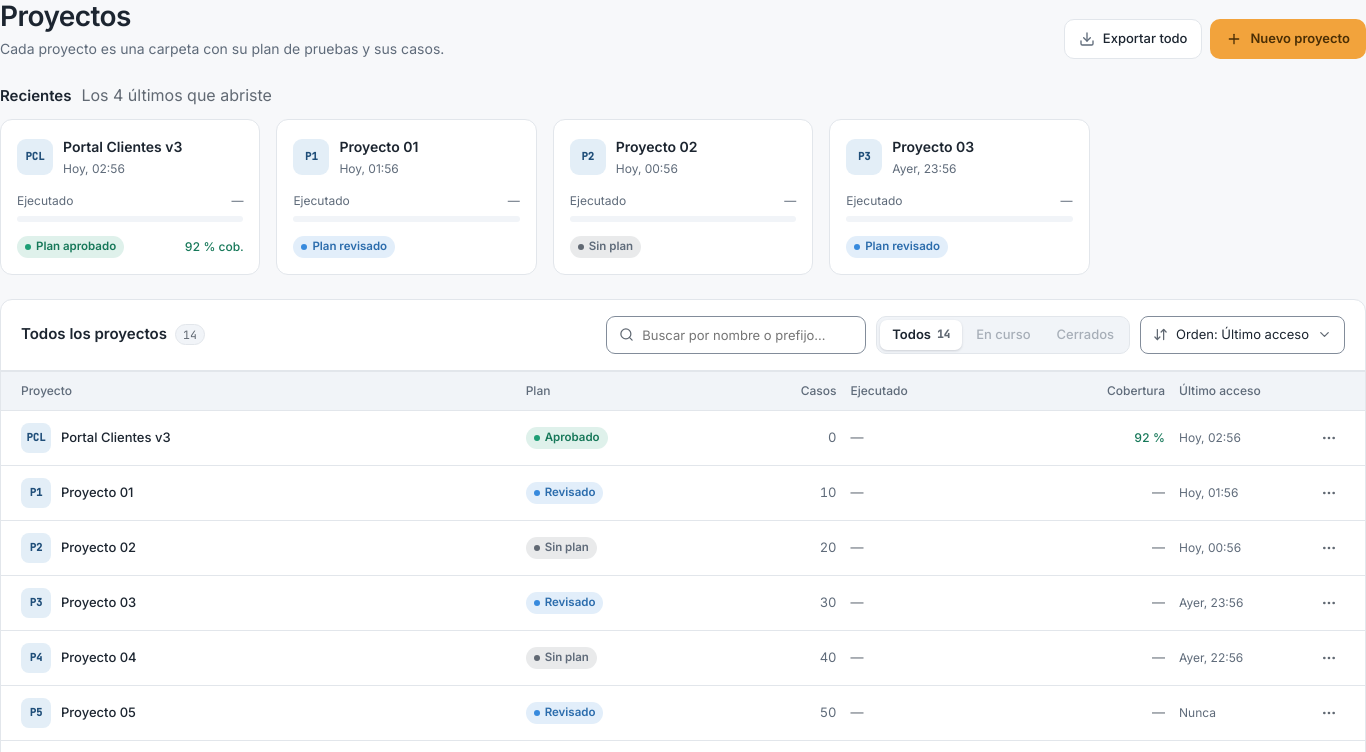
Proyectos (SPEC §8) › searches by name or prefix and says when nothing matches
This screenshot has width=1366, height=752.
Type "pcl" into the search field labelled "Buscar por nombre o prefijo…". click: (748, 335)
box: [642, 317, 853, 353]
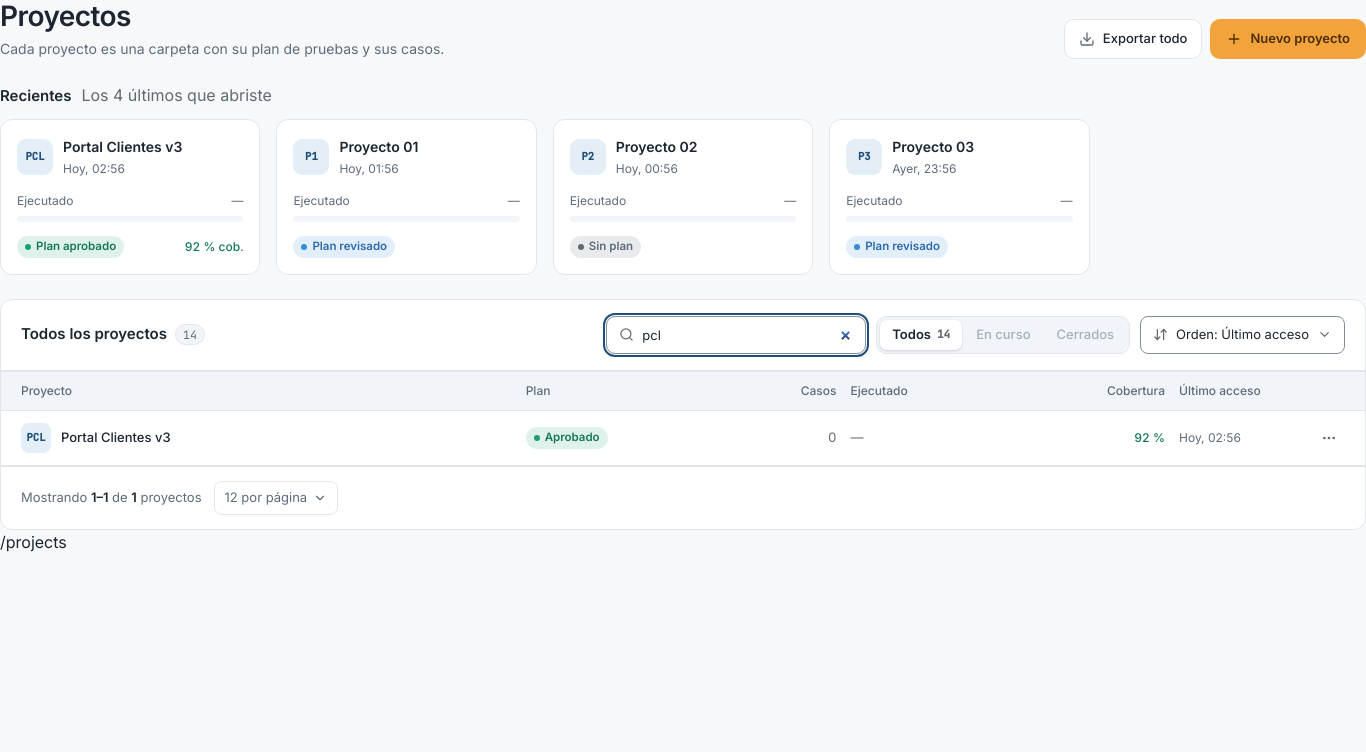
Expected: the number of rows is 2, [1, 371, 1365, 411]; [1, 411, 1365, 466]
Replace the text in the search field named "Buscar por nombre o prefijo…" with "zzz". click: (748, 335)
box: [642, 317, 853, 353]
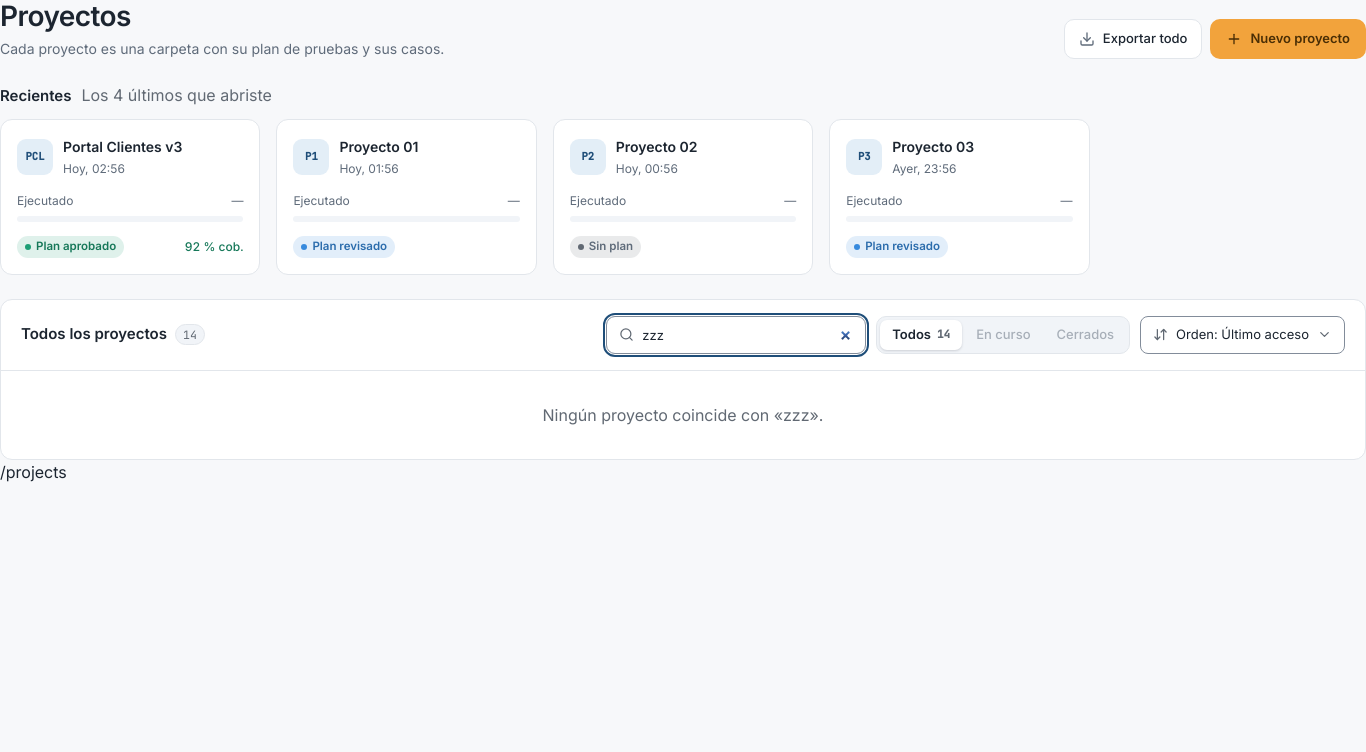
Expected: the text "Ningún proyecto coincide con «zzz»." is shown, [542, 405, 823, 425]
